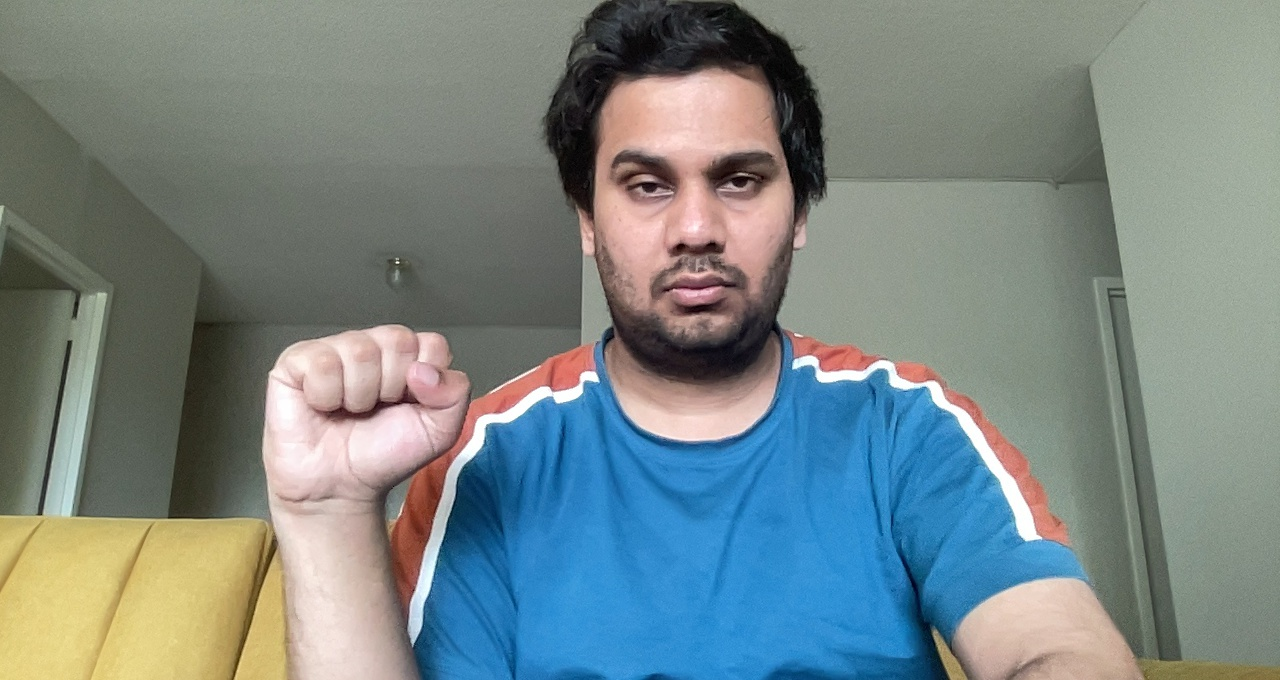closedfist: (251, 312, 476, 531)
